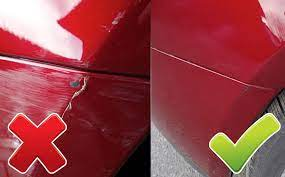scratch: (5, 74, 77, 108)
